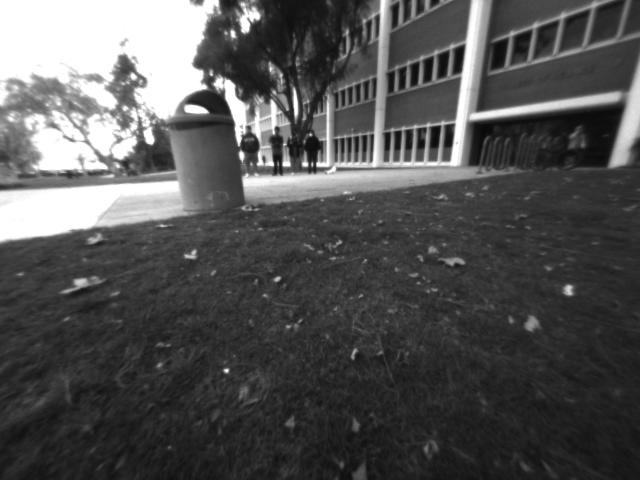trashcan: (159, 80, 259, 223)
